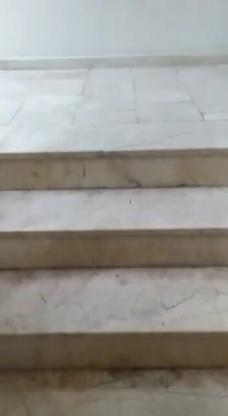stair: (0, 41, 228, 413)
